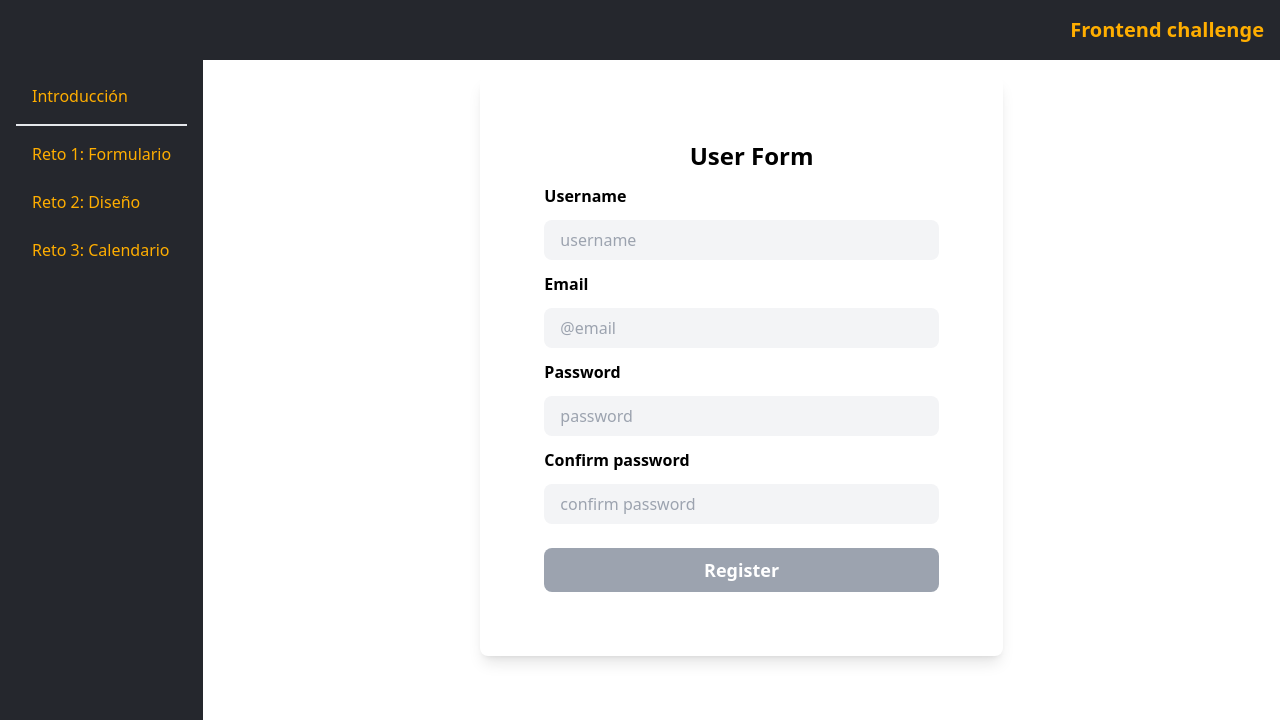
Register form › displays error messages when invalid name is entered
Type "12" into the field with id "username" at point(741, 240), box [544,220,938,260]
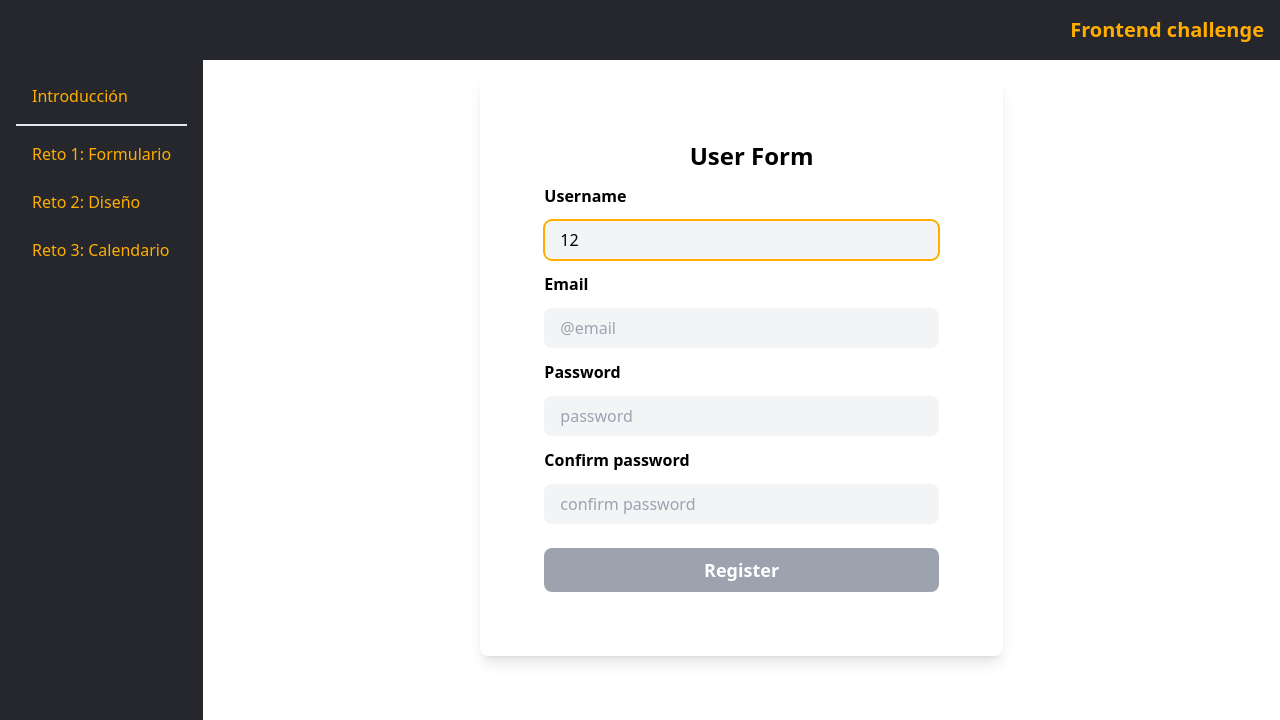
Leave the field with id "username", box [544,220,938,260]
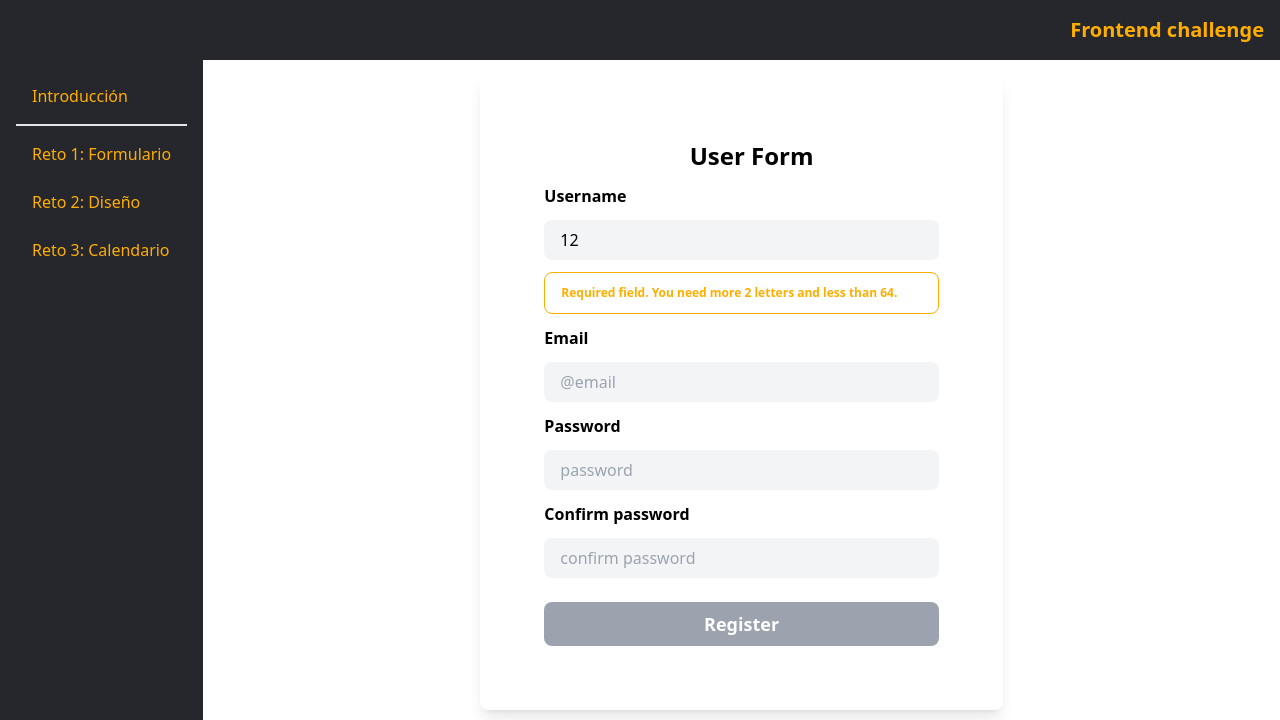
Now the text "Required field" is shown, box [561,284,897,301]
